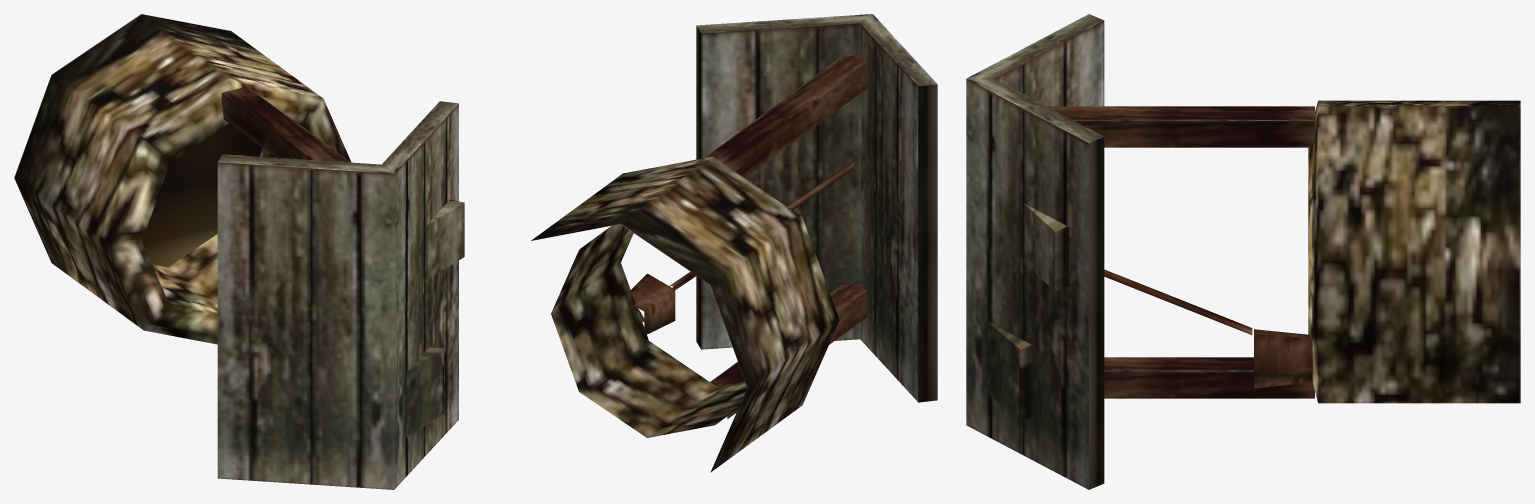
File: Well02.glb
3 renders of one model, left to right at view 1: azimuth 30°, elevation 25°; view 2: azimuth 150°, elevation 25°; view 3: azimuth 270°, elevation 25°, orthographic. The views are drawn at different scales.
Parts seen in each view (by area): view 1: model_Well02; view 2: model_Well02; view 3: model_Well02.
Boxes of the visible parts, left/top/right/bottom form: model_Well02: left=14, top=14, right=464, bottom=489; model_Well02: left=531, top=14, right=937, bottom=472; model_Well02: left=966, top=14, right=1520, bottom=489.
Bounding box in the file's own units: 1.57 × 1.87 × 2.71.
Materials: 1 (1 with a texture image).
